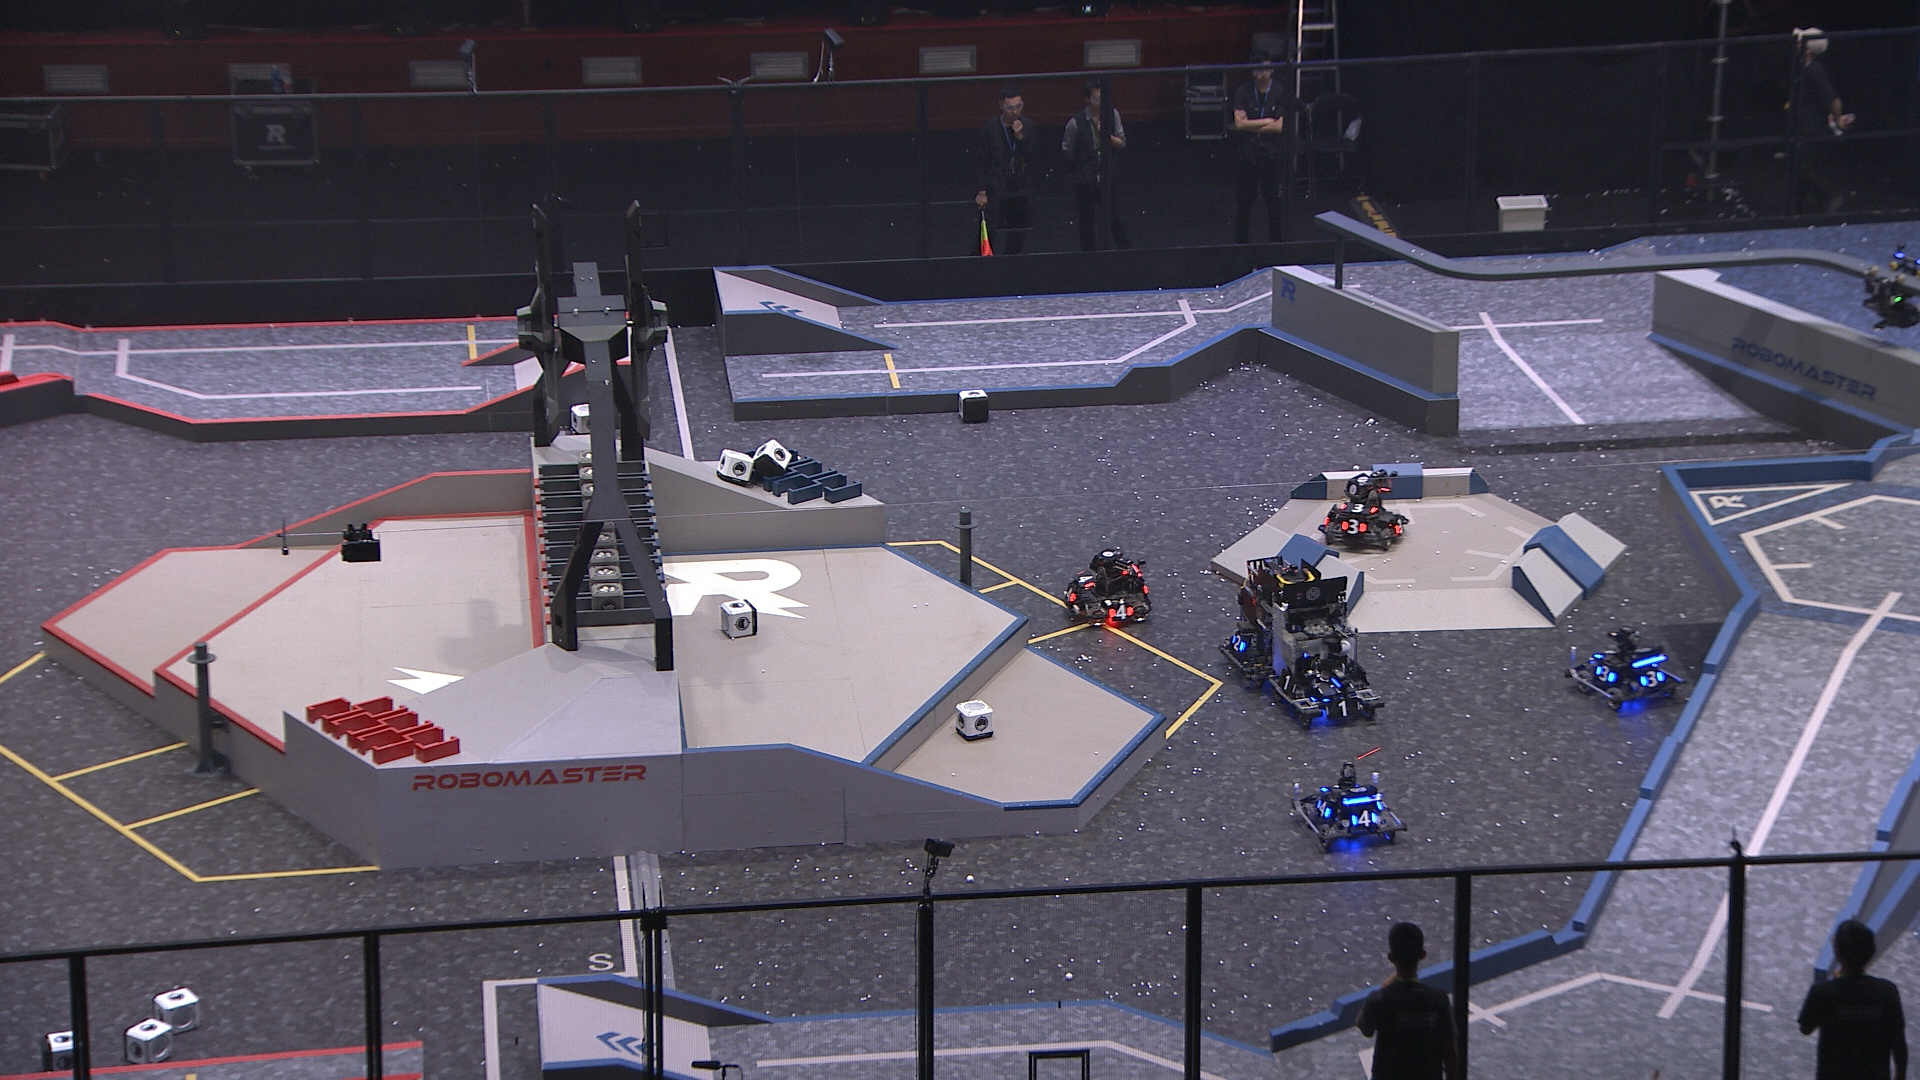armor: (1325, 698, 1362, 719), (1316, 680, 1356, 698), (1338, 498, 1378, 516), (1273, 671, 1296, 698), (1338, 516, 1367, 534), (1109, 603, 1135, 622), (1315, 796, 1335, 823), (1863, 280, 1892, 297), (1073, 568, 1096, 589), (1352, 808, 1377, 827), (1594, 666, 1619, 684), (1229, 632, 1249, 654), (1640, 669, 1662, 688), (1062, 585, 1077, 607), (1395, 517, 1408, 538), (1594, 646, 1614, 659)
car: (1265, 575, 1385, 725), (1221, 550, 1320, 694), (1565, 624, 1687, 709), (1292, 761, 1404, 853), (1319, 467, 1414, 551), (1059, 547, 1153, 624)
watcher: (1861, 247, 1920, 334)
